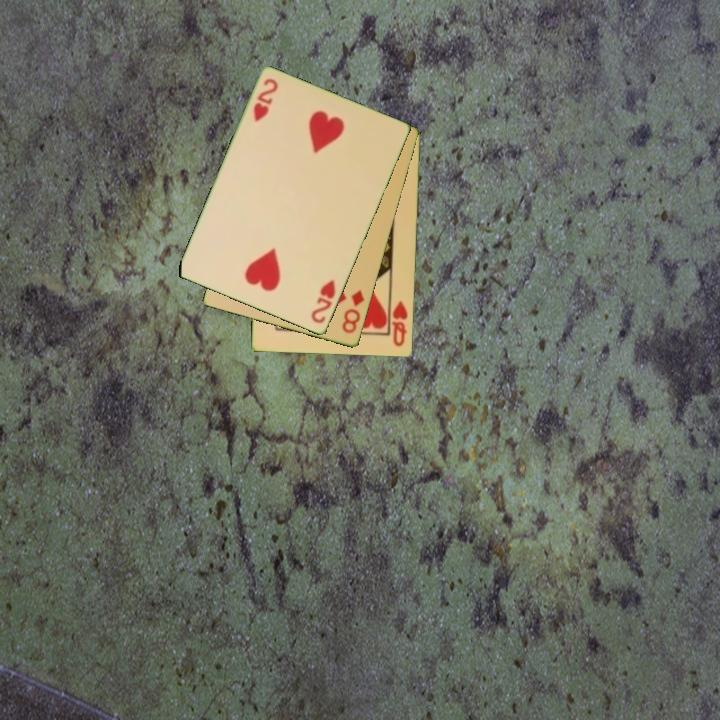2h: (308, 276, 339, 327), (250, 75, 281, 125)
8d: (338, 286, 368, 337)
Qh: (387, 294, 411, 349)
